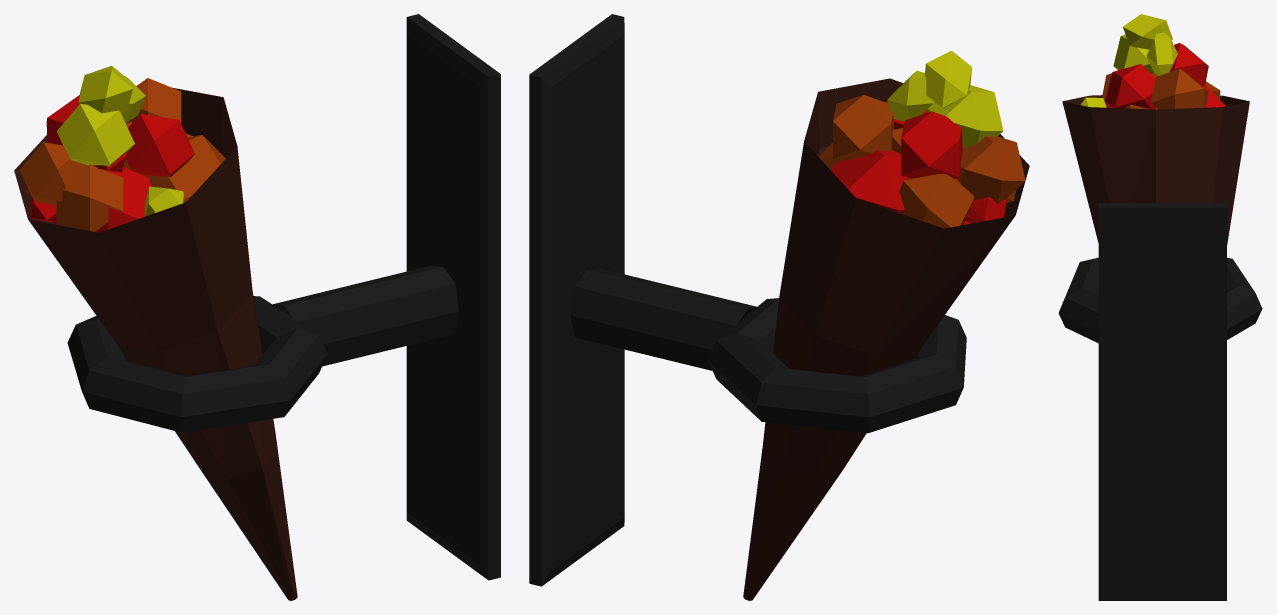
Rendered from antorcha.FBX.
3 renders of one model, left to right at view 1: azimuth 30°, elevation 25°; view 2: azimuth 150°, elevation 25°; view 3: azimuth 270°, elevation 25°, orthographic. The views are drawn at different scales.
Parts seen in each view (by area): view 1: Object001, Cone001, Hedra018, Hedra012, Hedra013, Hedra017, Hedra001, Hedra014, Hedra008, Hedra019, Hedra010, Hedra011; view 2: Object001, Cone001, Hedra011, Hedra017, Hedra019, Hedra007, Hedra009, Hedra018, Hedra014, Hedra015, Hedra006; view 3: Object001, Cone001, Hedra019, Hedra013, Hedra014, Hedra015, Hedra011, Hedra018.
Part boxes in pixels (box(x1,y1,x2,y2)): Object001: box(67, 14, 500, 580); Cone001: box(14, 87, 297, 600); Hedra018: box(57, 103, 134, 166); Hedra012: box(56, 164, 123, 231); Hedra013: box(125, 113, 194, 176); Hedra017: box(20, 142, 87, 205); Hedra001: box(148, 135, 225, 202); Hedra014: box(78, 65, 133, 113); Hedra008: box(96, 167, 151, 232); Hedra019: box(125, 78, 181, 123); Hedra010: box(144, 186, 183, 216); Hedra011: box(46, 95, 79, 145); Object001: box(529, 14, 966, 586); Cone001: box(743, 78, 1029, 600); Hedra011: box(901, 111, 962, 178); Hedra017: box(956, 136, 1025, 203); Hedra019: box(833, 95, 894, 161); Hedra007: box(899, 173, 974, 228); Hedra009: box(830, 150, 908, 214); Hedra018: box(927, 85, 1003, 148); Hedra014: box(924, 51, 972, 108); Hedra015: box(887, 70, 934, 121); Hedra006: box(968, 197, 1006, 222); Object001: box(1058, 203, 1262, 600); Cone001: box(1062, 95, 1249, 245); Hedra019: box(1151, 68, 1208, 109); Hedra013: box(1105, 64, 1155, 109); Hedra014: box(1123, 14, 1172, 49); Hedra015: box(1146, 32, 1177, 75); Hedra011: box(1170, 43, 1208, 85); Hedra018: box(1113, 34, 1153, 73).
Bounding box in the file's own units: 36.03 × 45.75 × 18.61.
